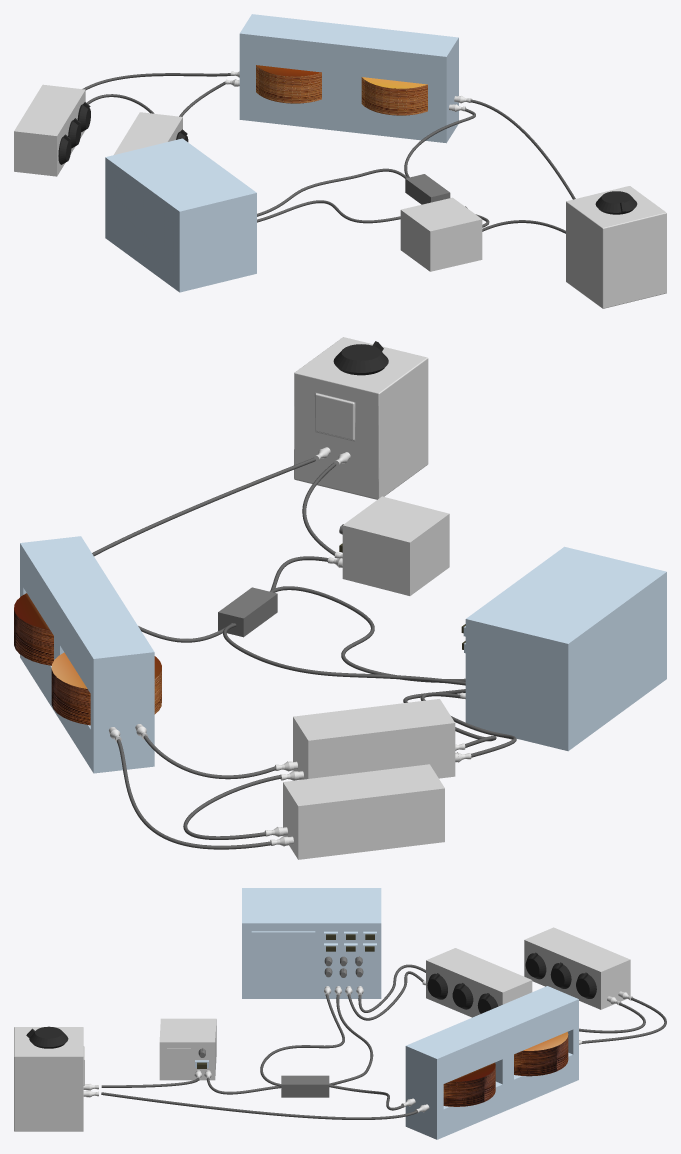
The model's file is lab_stand_VER2_5e_prefab.fbx.
3 views of the same model, one above another, from view 1: azimuth 30°, elevation 25°; view 2: azimuth 150°, elevation 25°; view 3: azimuth 270°, elevation 25° (orthographic). The views are drawn at different scales.
Visible parts, largest first — view 1: research_trans, osciloscope_body, transformator, amperemeter, integrator.001, coil, coil2, integrator, RESIstor, wire, handle, wire006.001 (+2 smaller); view 2: osciloscope_body, research_trans, transformator, integrator.001, integrator, amperemeter, coil2, coil, RESIstor, wire, handle, wire006.001 (+3 smaller); view 3: research_trans, osciloscope_body, transformator, integrator.001, integrator, amperemeter, coil2, coil, wire, RESIstor, handle, wire005.001 (+8 smaller).
Part boxes in pixels (box(x1,y1,x2,y2)): research_trans: box(239, 14, 458, 143); osciloscope_body: box(105, 138, 256, 292); transformator: box(566, 186, 666, 308); amperemeter: box(400, 197, 482, 271); integrator.001: box(14, 84, 85, 176); coil: box(361, 77, 427, 115); coil2: box(256, 65, 321, 103); integrator: box(113, 112, 182, 155); RESIstor: box(405, 174, 450, 204); wire: box(404, 99, 575, 199); handle: box(595, 191, 637, 214); wire006.001: box(257, 168, 407, 216); osciloscope_body: box(465, 546, 666, 751); research_trans: box(20, 536, 154, 773); transformator: box(294, 337, 428, 499); integrator.001: box(283, 764, 444, 859); integrator: box(293, 699, 455, 779); amperemeter: box(342, 496, 449, 595); coil2: box(51, 652, 161, 725); coil: box(14, 593, 53, 665); RESIstor: box(218, 587, 277, 637); wire: box(92, 457, 315, 642); handle: box(333, 341, 388, 375); wire006.001: box(223, 623, 465, 685); research_trans: box(405, 986, 578, 1139); osciloscope_body: box(242, 888, 381, 998); transformator: box(14, 1027, 84, 1131); integrator.001: box(524, 927, 630, 1009); integrator: box(426, 948, 532, 1017); amperemeter: box(159, 1018, 216, 1080); coil2: box(514, 1032, 568, 1076); coil: box(443, 1062, 495, 1106); wire: box(101, 1084, 417, 1119); RESIstor: box(281, 1075, 329, 1097); handle: box(26, 1026, 68, 1048); wire005.001: box(260, 994, 344, 1086).
Bounding box in the file's own units: 3086 × 691 × 4687.
